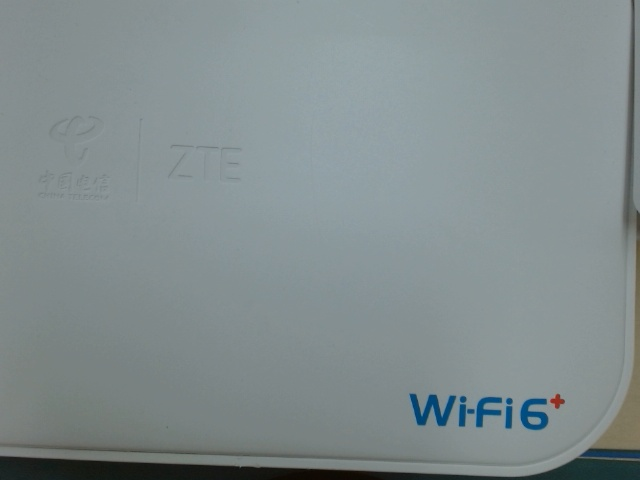AJ_ZTEWIFI6Plus: (397, 382, 571, 436)
